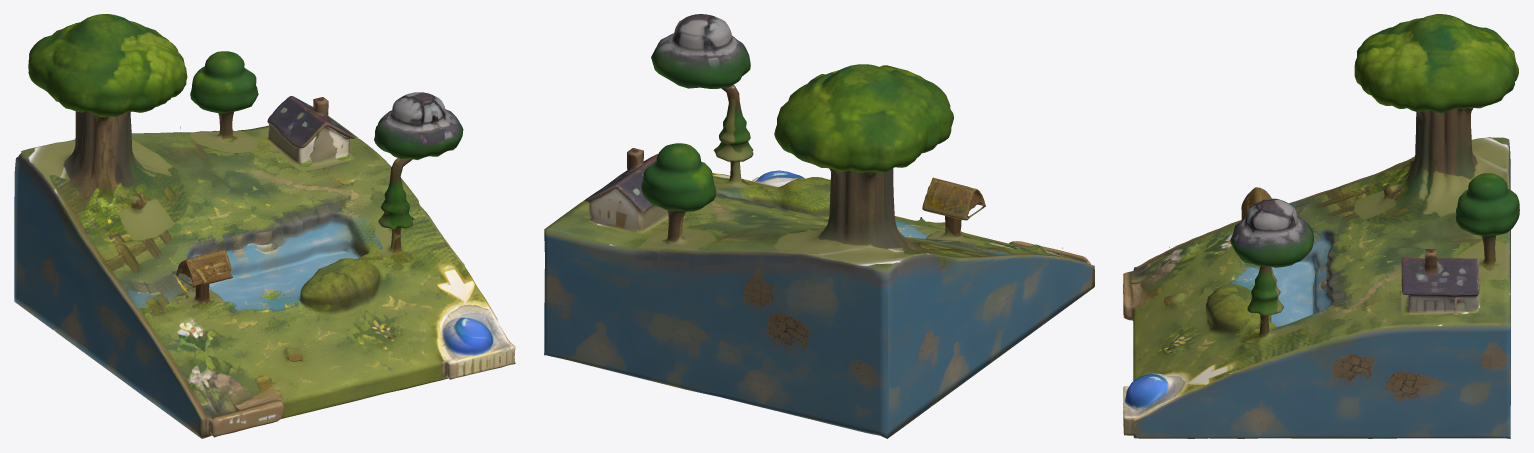
File: forest-props.glb
3 renders of one model, left to right at view 1: azimuth 30°, elevation 25°; view 2: azimuth 150°, elevation 25°; view 3: azimuth 270°, elevation 25°, orthographic. The views are drawn at different scales.
Parts seen in each view (by area): view 1: model; view 2: model; view 3: model.
Boxes of the visible parts, left/top/right/bottom form: model: left=14, top=14, right=515, bottom=438; model: left=544, top=14, right=1094, bottom=438; model: left=1123, top=14, right=1519, bottom=438.
Bounding box in the file's own units: 1.83 × 1.55 × 1.89.
1 material, 1 textured.
